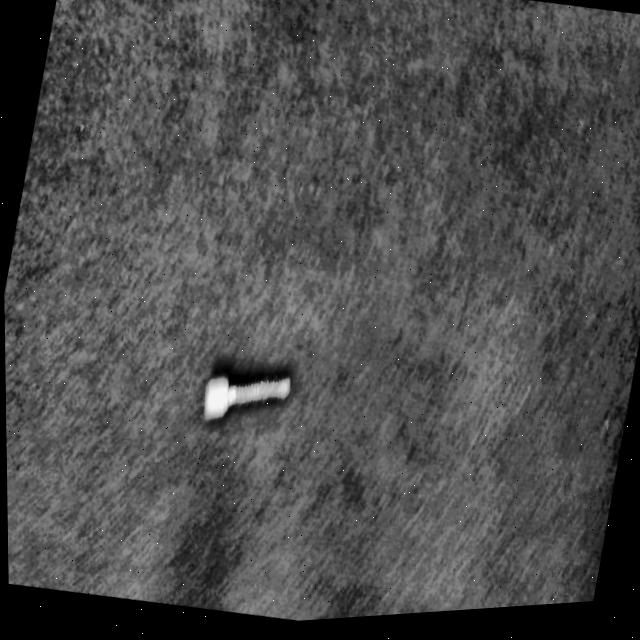Socket head cap screw: (196, 352, 296, 437)
